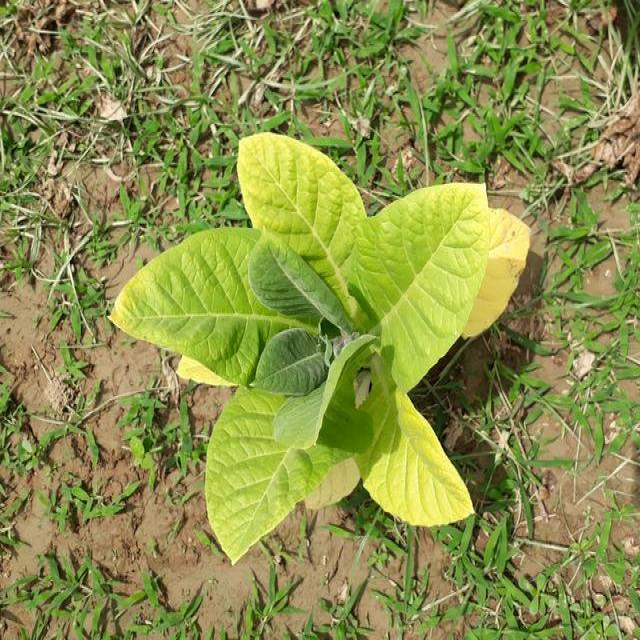crop: (115, 133, 526, 554)
